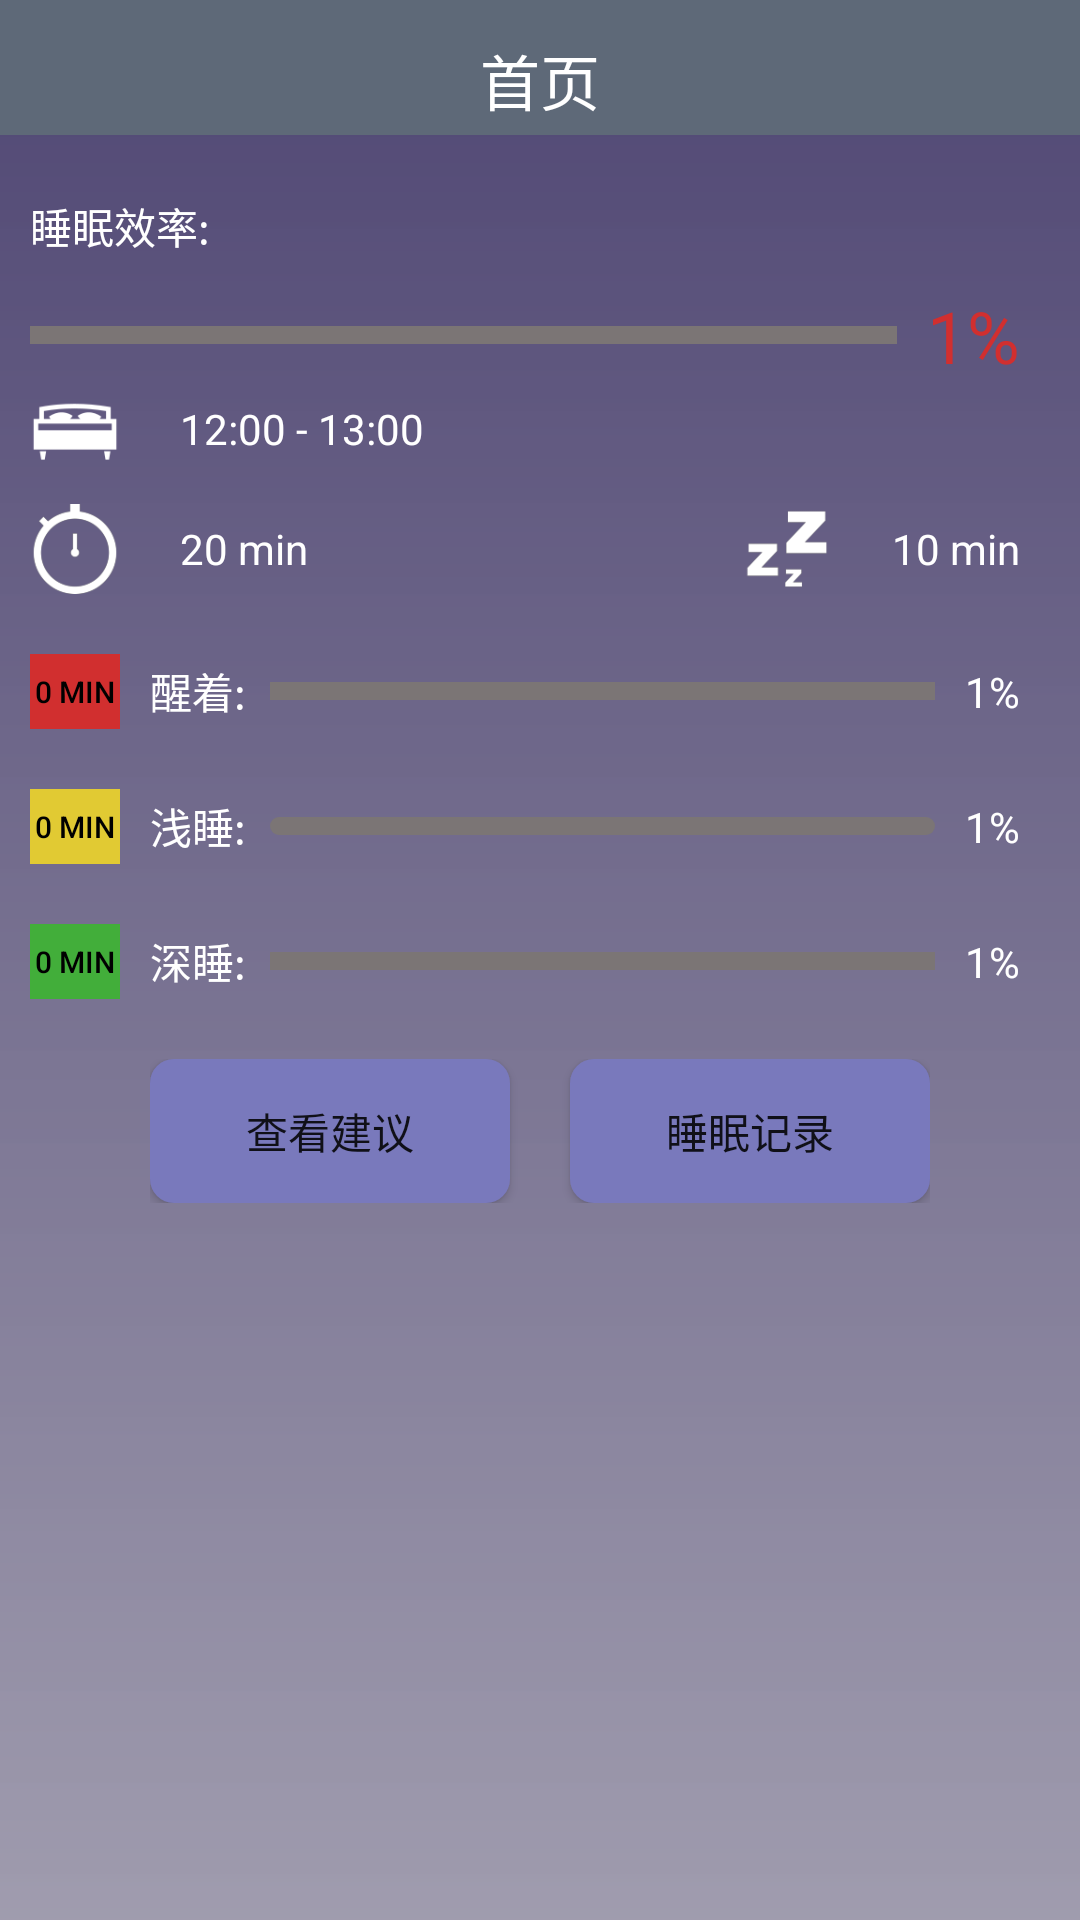

Icon click points for this 1080px x 1920px phone screenshot, format (x,y):
fall asleep: (787,549)
values duration: (75,549)
